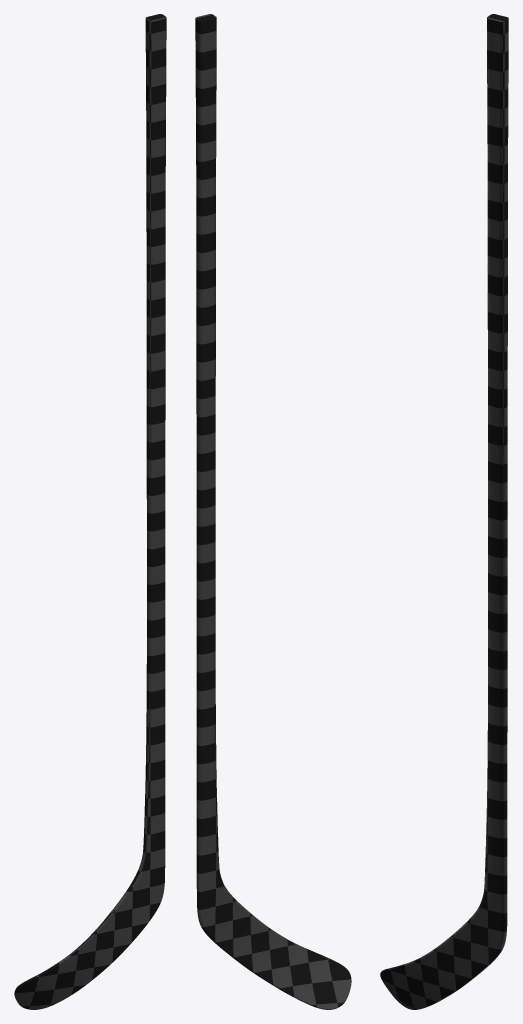
Rendered from P8TM-SBO.glb.
3 views of the same model, side by side, from view 1: azimuth 30°, elevation 25°; view 2: azimuth 210°, elevation 25°; view 3: azimuth 330°, elevation 25° (orthographic). The views are drawn at different scales.
Visible parts, largest first — view 1: geometry_0; view 2: geometry_0; view 3: geometry_0.
Part boxes in pixels (box(x1,y1,x2,y2)): geometry_0: box(14, 14, 166, 1009); geometry_0: box(195, 14, 351, 1009); geometry_0: box(380, 14, 508, 1009).
Size of the model in its own units: 237 by 1650 by 68.66.
Materials: 1 (1 with a texture image).
